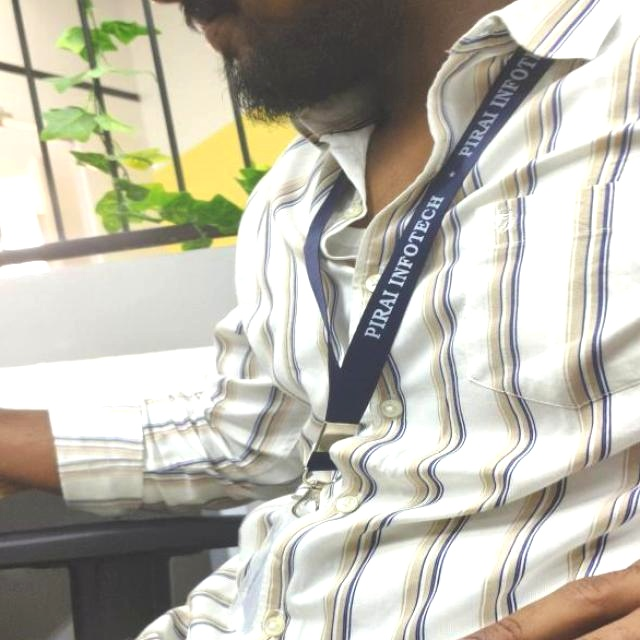ID_card: (320, 151, 454, 465)
